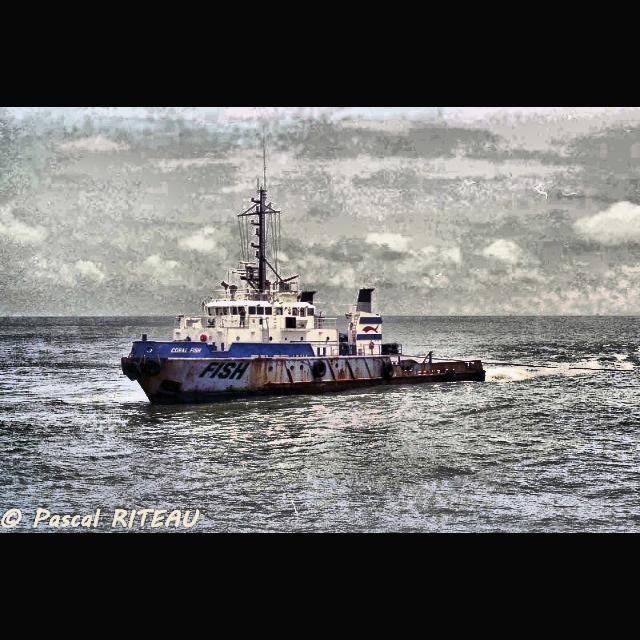anchor_handling_tug_supply: (118, 247, 486, 408)
